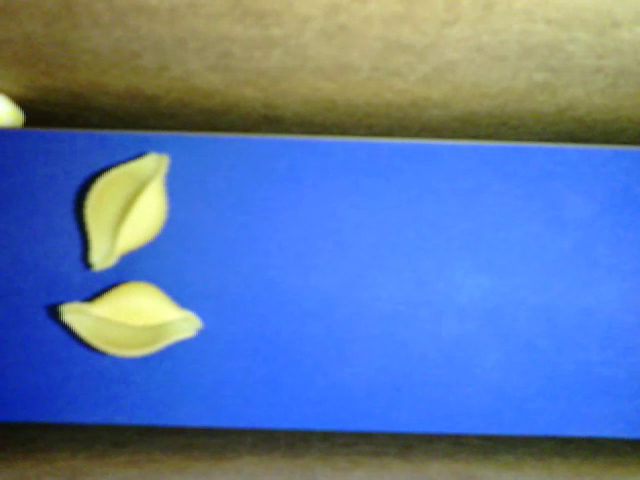shell: (58, 279, 204, 358), (84, 151, 171, 272)
